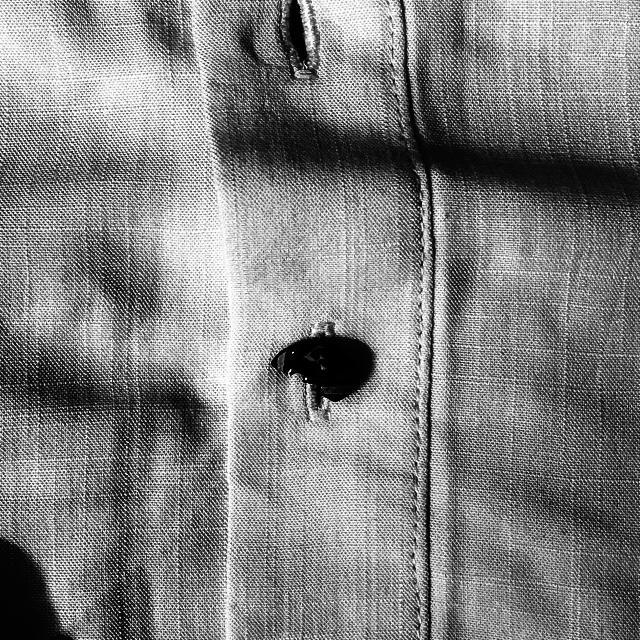Broken_button: (248, 319, 369, 417)
